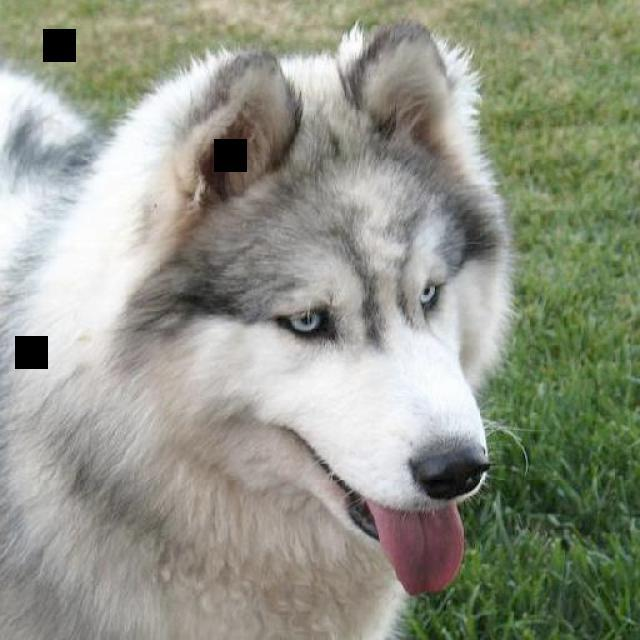adult_dog: (1, 12, 515, 640)
